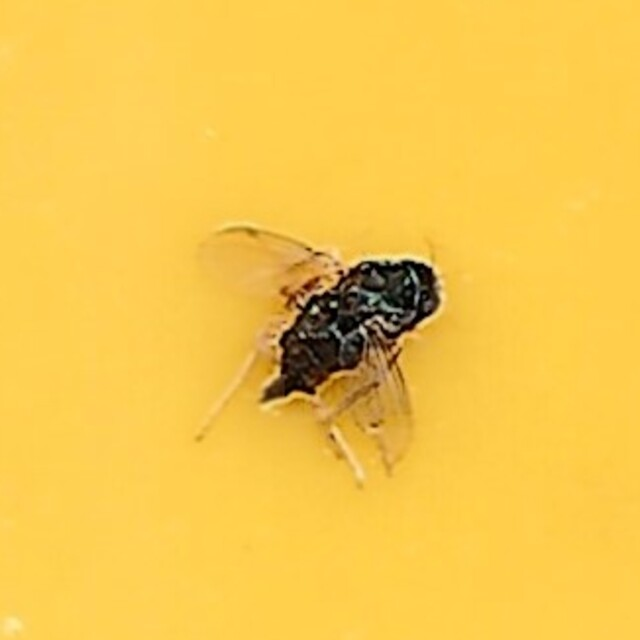Brachycera: (196, 221, 444, 419)
